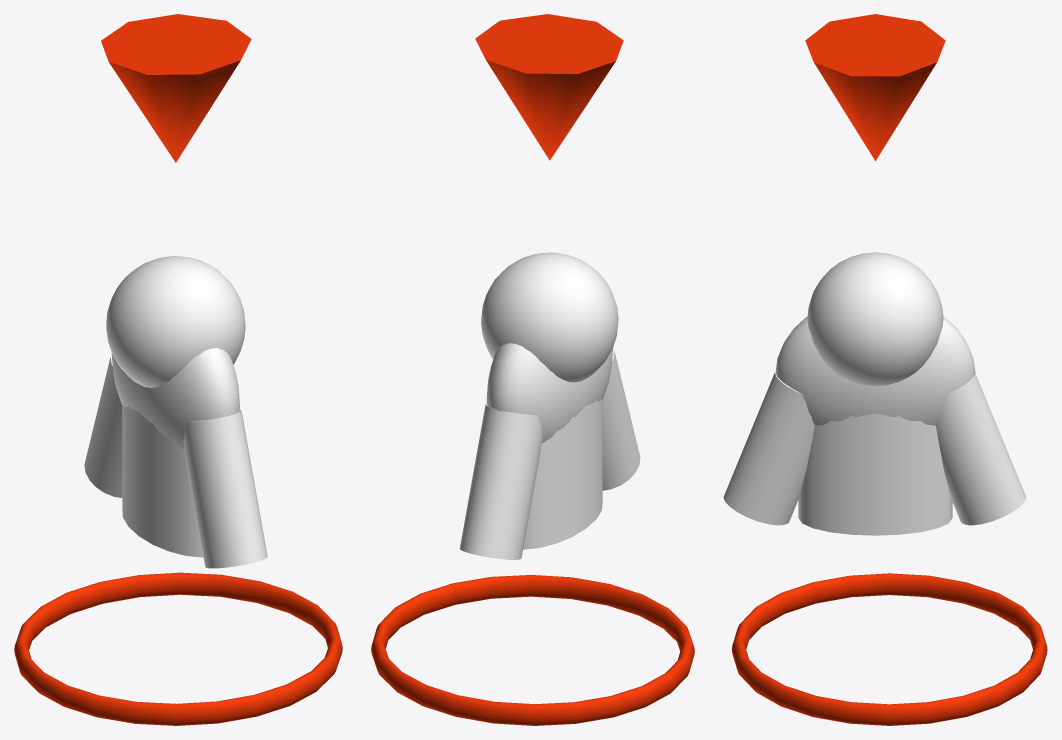
File: buffCoat.fbx
3 views of the same model, side by side, from view 1: azimuth 30°, elevation 25°; view 2: azimuth 150°, elevation 25°; view 3: azimuth 270°, elevation 25° (orthographic). The views are drawn at different scales.
Parts seen in each view (by area): view 1: Torus, Sphere__1_, Cone, Sleve__1_, Cylinder, Sphere, Sleve; view 2: Torus, Sphere__1_, Cone, Sleve, Cylinder, Sphere, Sleve__1_; view 3: Cylinder, Torus, Sphere__1_, Cone, Sphere, Sleve__1_, Sleve.
Boxes of the visible parts, x1,y1,x2,y2 form: Torus: (14,572,342,725); Sphere__1_: (106,256,245,387); Cone: (101,14,251,162); Sleve__1_: (183,409,267,568); Cylinder: (122,404,203,557); Sphere: (111,348,239,449); Sleve: (84,354,122,497); Torus: (371,575,694,725); Sphere__1_: (481,252,618,382); Cone: (475,14,623,160); Sleve: (459,403,542,559); Cylinder: (523,398,602,549); Sphere: (486,343,612,443); Sleve__1_: (602,347,640,490); Cylinder: (798,413,952,535); Torus: (731,573,1047,725); Sphere__1_: (807,252,943,386); Cone: (805,14,945,160); Sphere: (775,316,975,425); Sleve__1_: (723,371,814,525); Sleve: (936,374,1026,525).
Bounding box in the file's own units: 612 × 1272 × 613.
